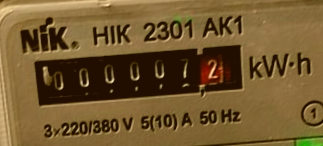0: (126, 58, 142, 82), (50, 67, 65, 91), (101, 61, 116, 85), (151, 56, 166, 80), (76, 65, 90, 88)
2: (204, 56, 219, 80)
7: (177, 54, 191, 79)
screen: (22, 33, 253, 114)
